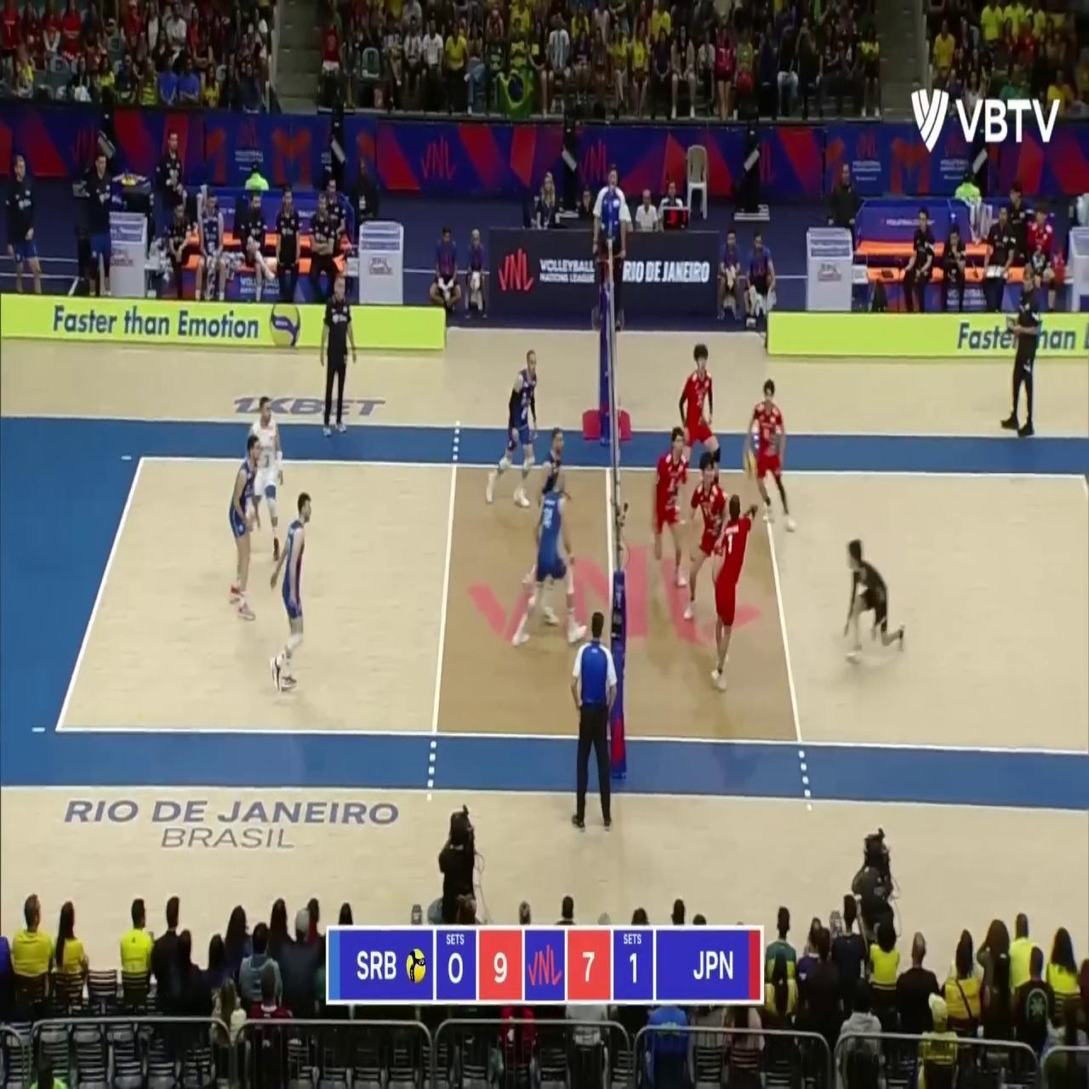ball: (743, 452, 756, 477)
